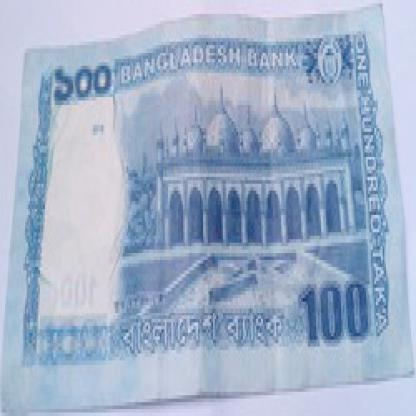one hundred taka: (296, 264, 373, 350), (47, 59, 120, 107)
